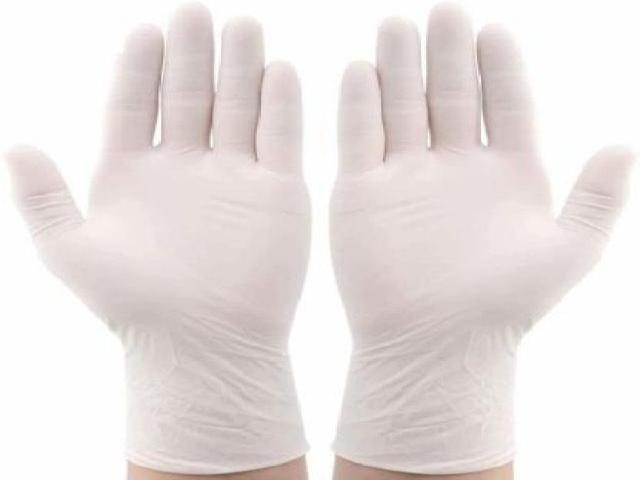Hand-in-Glove: (0, 7, 315, 475), (333, 10, 638, 480)
